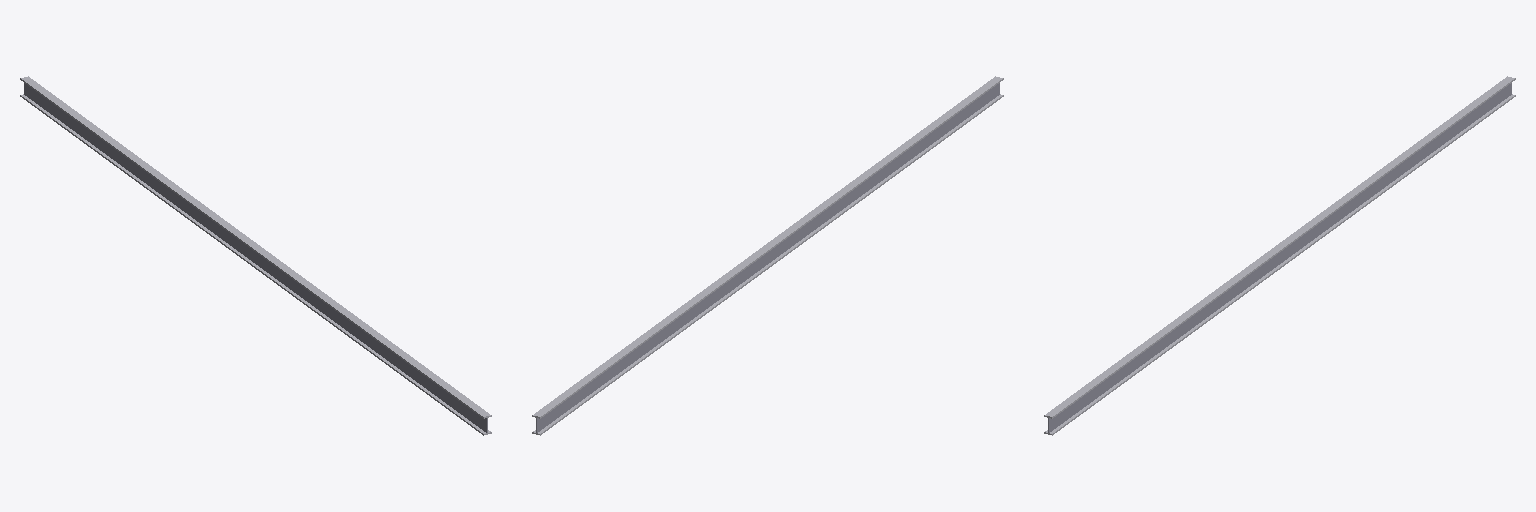
The robot description file, URDF, robot "h_bar":
<?xml version="1.0" ?>
<!-- =================================================================================== -->
<!-- |    This document was autogenerated by xacro from h_bar.xacro                    | -->
<!-- |    EDITING THIS FILE BY HAND IS NOT RECOMMENDED                                 | -->
<!-- =================================================================================== -->
<robot name="h_bar">
  <link name="world"/>
  <!-- Bottom leg (aligned with z-axis after rotation, below origin) -->
  <link name="hbar_bottom_leg">
    <visual>
      <origin rpy="0 1.57079633 0" xyz="0 0 0"/>
      <geometry>
        <!-- thickness x, profile width y, leg length along local z -->
        <box size="0.01 5.0 0.05"/>
      </geometry>
      <material name="hbar_material_bottom">
        <!-- Brushed steel-like gray -->
        <color rgba="0.75 0.75 0.78 1.0"/>
      </material>
    </visual>
    <collision>
      <origin rpy="0 1.57079633 0" xyz="0 0 0"/>
      <geometry>
        <box size="0.01 5.0 0.05"/>
      </geometry>
    </collision>
    <inertial>
      <origin rpy="0 0 0" xyz="0 0 0"/>
      <mass value="0.3333333333333333"/>
      <inertia ixx="0.6945138888888889" ixy="0.0" ixz="0.0" iyy="7.222222222222223e-05" iyz="0.0" izz="0.6944472222222222"/>
    </inertial>
  </link>
  <!-- Top leg (aligned with z-axis after rotation, above origin) -->
  <link name="hbar_top_leg">
    <visual>
      <origin rpy="0 1.57079633 0" xyz="0 0 0"/>
      <geometry>
        <box size="0.01 5.0 0.05"/>
      </geometry>
      <material name="hbar_material_top">
        <!-- Brushed steel-like gray -->
        <color rgba="0.75 0.75 0.78 1.0"/>
      </material>
    </visual>
    <collision>
      <origin rpy="0 1.57079633 0" xyz="0 0 0"/>
      <geometry>
        <box size="0.01 5.0 0.05"/>
      </geometry>
    </collision>
    <inertial>
      <origin rpy="0 0 0" xyz="0 0 0"/>
      <mass value="0.3333333333333333"/>
      <inertia ixx="0.6945138888888889" ixy="0.0" ixz="0.0" iyy="7.222222222222223e-05" iyz="0.0" izz="0.6944472222222222"/>
    </inertial>
  </link>
  <!-- Crossbar: vertical (aligned with z-axis) at the origin -->
  <link name="hbar_crossbar">
    <visual>
      <!-- Thickness in x,y, length in z -->
      <origin rpy="0 0 0" xyz="0 0 0"/>
      <geometry>
        <box size="0.01 5.0 0.1"/>
      </geometry>
      <material name="hbar_material_cross">
        <!-- Slightly darker steel for visual contrast -->
        <color rgba="0.65 0.65 0.7 1.0"/>
      </material>
    </visual>
    <collision>
      <origin rpy="0 0 0" xyz="0 0 0"/>
      <geometry>
        <box size="0.01 5.0 0.1"/>
      </geometry>
    </collision>
    <inertial>
      <origin rpy="0 0 0" xyz="0 0 0"/>
      <mass value="0.3333333333333333"/>
      <inertia ixx="0.6947222222222222" ixy="0.0" ixz="0.0" iyy="0.0002805555555555556" iyz="0.0" izz="0.6944472222222222"/>
    </inertial>
  </link>
  <!-- Fix crossbar to world; its center is at the macro pose -->
  <joint name="hbar_cross_fix" type="fixed">
    <parent link="world"/>
    <child link="hbar_crossbar"/>
    <origin rpy="0 0 0" xyz="0 0 0"/>
  </joint>
  <!-- Top leg: translated +L_leg/2 in x and +L_span/2 in z relative to crossbar -->
  <joint name="hbar_top_fix" type="fixed">
    <parent link="hbar_crossbar"/>
    <child link="hbar_top_leg"/>
    <origin rpy="0 0.0 0" xyz="0 0 0.05"/>
  </joint>
  <!-- Bottom leg: translated +L_leg/2 in x and -L_span/2 in z relative to crossbar -->
  <joint name="hbar_bottom_fix" type="fixed">
    <parent link="hbar_crossbar"/>
    <child link="hbar_bottom_leg"/>
    <origin rpy="0 0 0" xyz="0 0 -0.05"/>
  </joint>
</robot>

--- Facts derived from the render (not from the file) ---
3 views of the same robot in one strip: view 1: azimuth 30°, elevation 25°; view 2: azimuth 150°, elevation 25°; view 3: azimuth 330°, elevation 25° (orthographic).
Robot: h_bar — 4 links, 3 joints (3 fixed); root link world; default pose: all joints at 0.
Visible links, largest first — view 1: hbar_crossbar, hbar_top_leg, hbar_bottom_leg; view 2: hbar_crossbar, hbar_top_leg, hbar_bottom_leg; view 3: hbar_crossbar, hbar_top_leg, hbar_bottom_leg.
Boxes of the visible links, x1=… form: hbar_crossbar: x1=24, y1=83, x2=487, y2=432; hbar_top_leg: x1=20, y1=76, x2=491, y2=418; hbar_bottom_leg: x1=20, y1=94, x2=491, y2=435; hbar_crossbar: x1=536, y1=83, x2=999, y2=432; hbar_top_leg: x1=532, y1=76, x2=1003, y2=418; hbar_bottom_leg: x1=532, y1=94, x2=1003, y2=435; hbar_crossbar: x1=1048, y1=83, x2=1511, y2=432; hbar_top_leg: x1=1044, y1=76, x2=1515, y2=418; hbar_bottom_leg: x1=1044, y1=94, x2=1515, y2=435.
Bounding box of the posed robot: 0.05 × 5 × 0.11 m (x, y, z).
Geometry: primitives only (box / cylinder / sphere), no mesh files.
